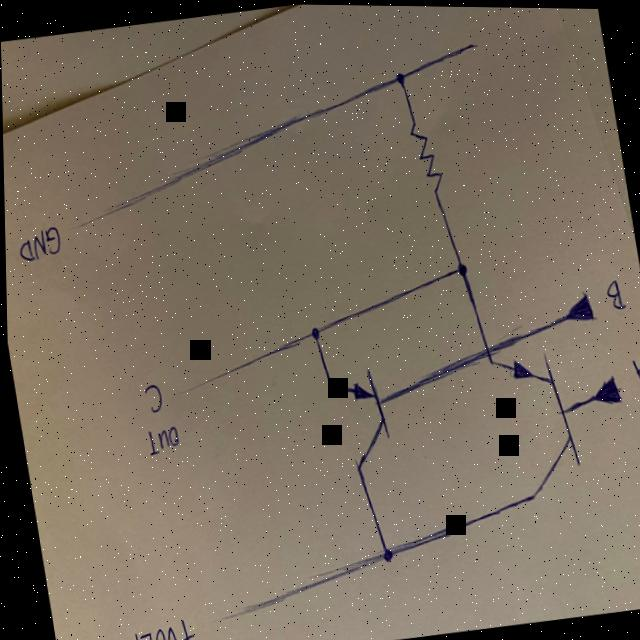crossover: (476, 339, 498, 365)
junction: (372, 537, 400, 572), (299, 316, 328, 349), (450, 255, 474, 284), (395, 70, 409, 89)
resistor: (405, 112, 448, 199)
terminal: (199, 597, 256, 635), (546, 291, 599, 330), (579, 371, 626, 412), (59, 208, 105, 246), (165, 377, 205, 412), (447, 34, 489, 64)
text: (15, 225, 65, 268), (141, 423, 181, 458), (113, 624, 179, 640), (138, 377, 165, 416), (601, 273, 627, 313), (624, 349, 640, 392), (175, 614, 196, 640)
transistor: (484, 349, 589, 513), (319, 364, 397, 479)
